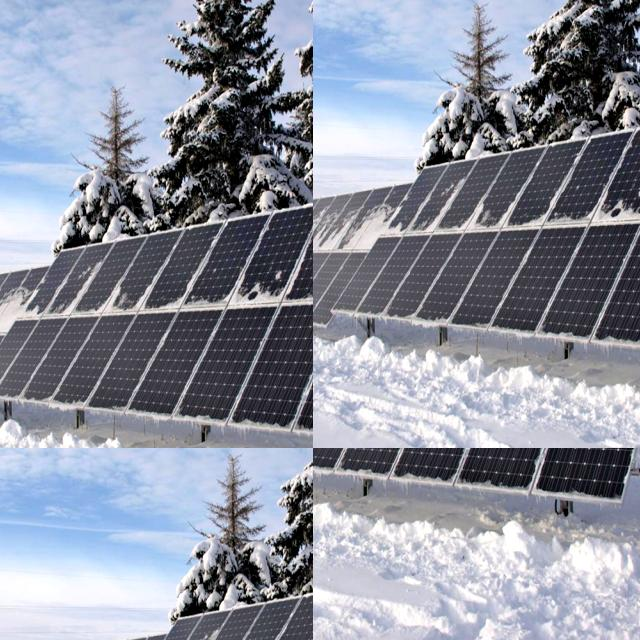bird: (403, 142, 468, 212), (408, 240, 450, 278), (471, 214, 502, 246), (454, 106, 488, 127), (424, 112, 441, 144)
dust: (0, 192, 106, 375), (0, 47, 127, 174), (182, 49, 292, 182), (158, 240, 260, 381), (59, 244, 150, 388)
panel: (579, 448, 612, 497), (313, 448, 375, 473), (392, 448, 449, 474), (313, 448, 338, 487), (606, 448, 640, 470), (313, 448, 340, 473), (313, 448, 337, 476), (313, 448, 344, 467), (313, 448, 332, 474)
